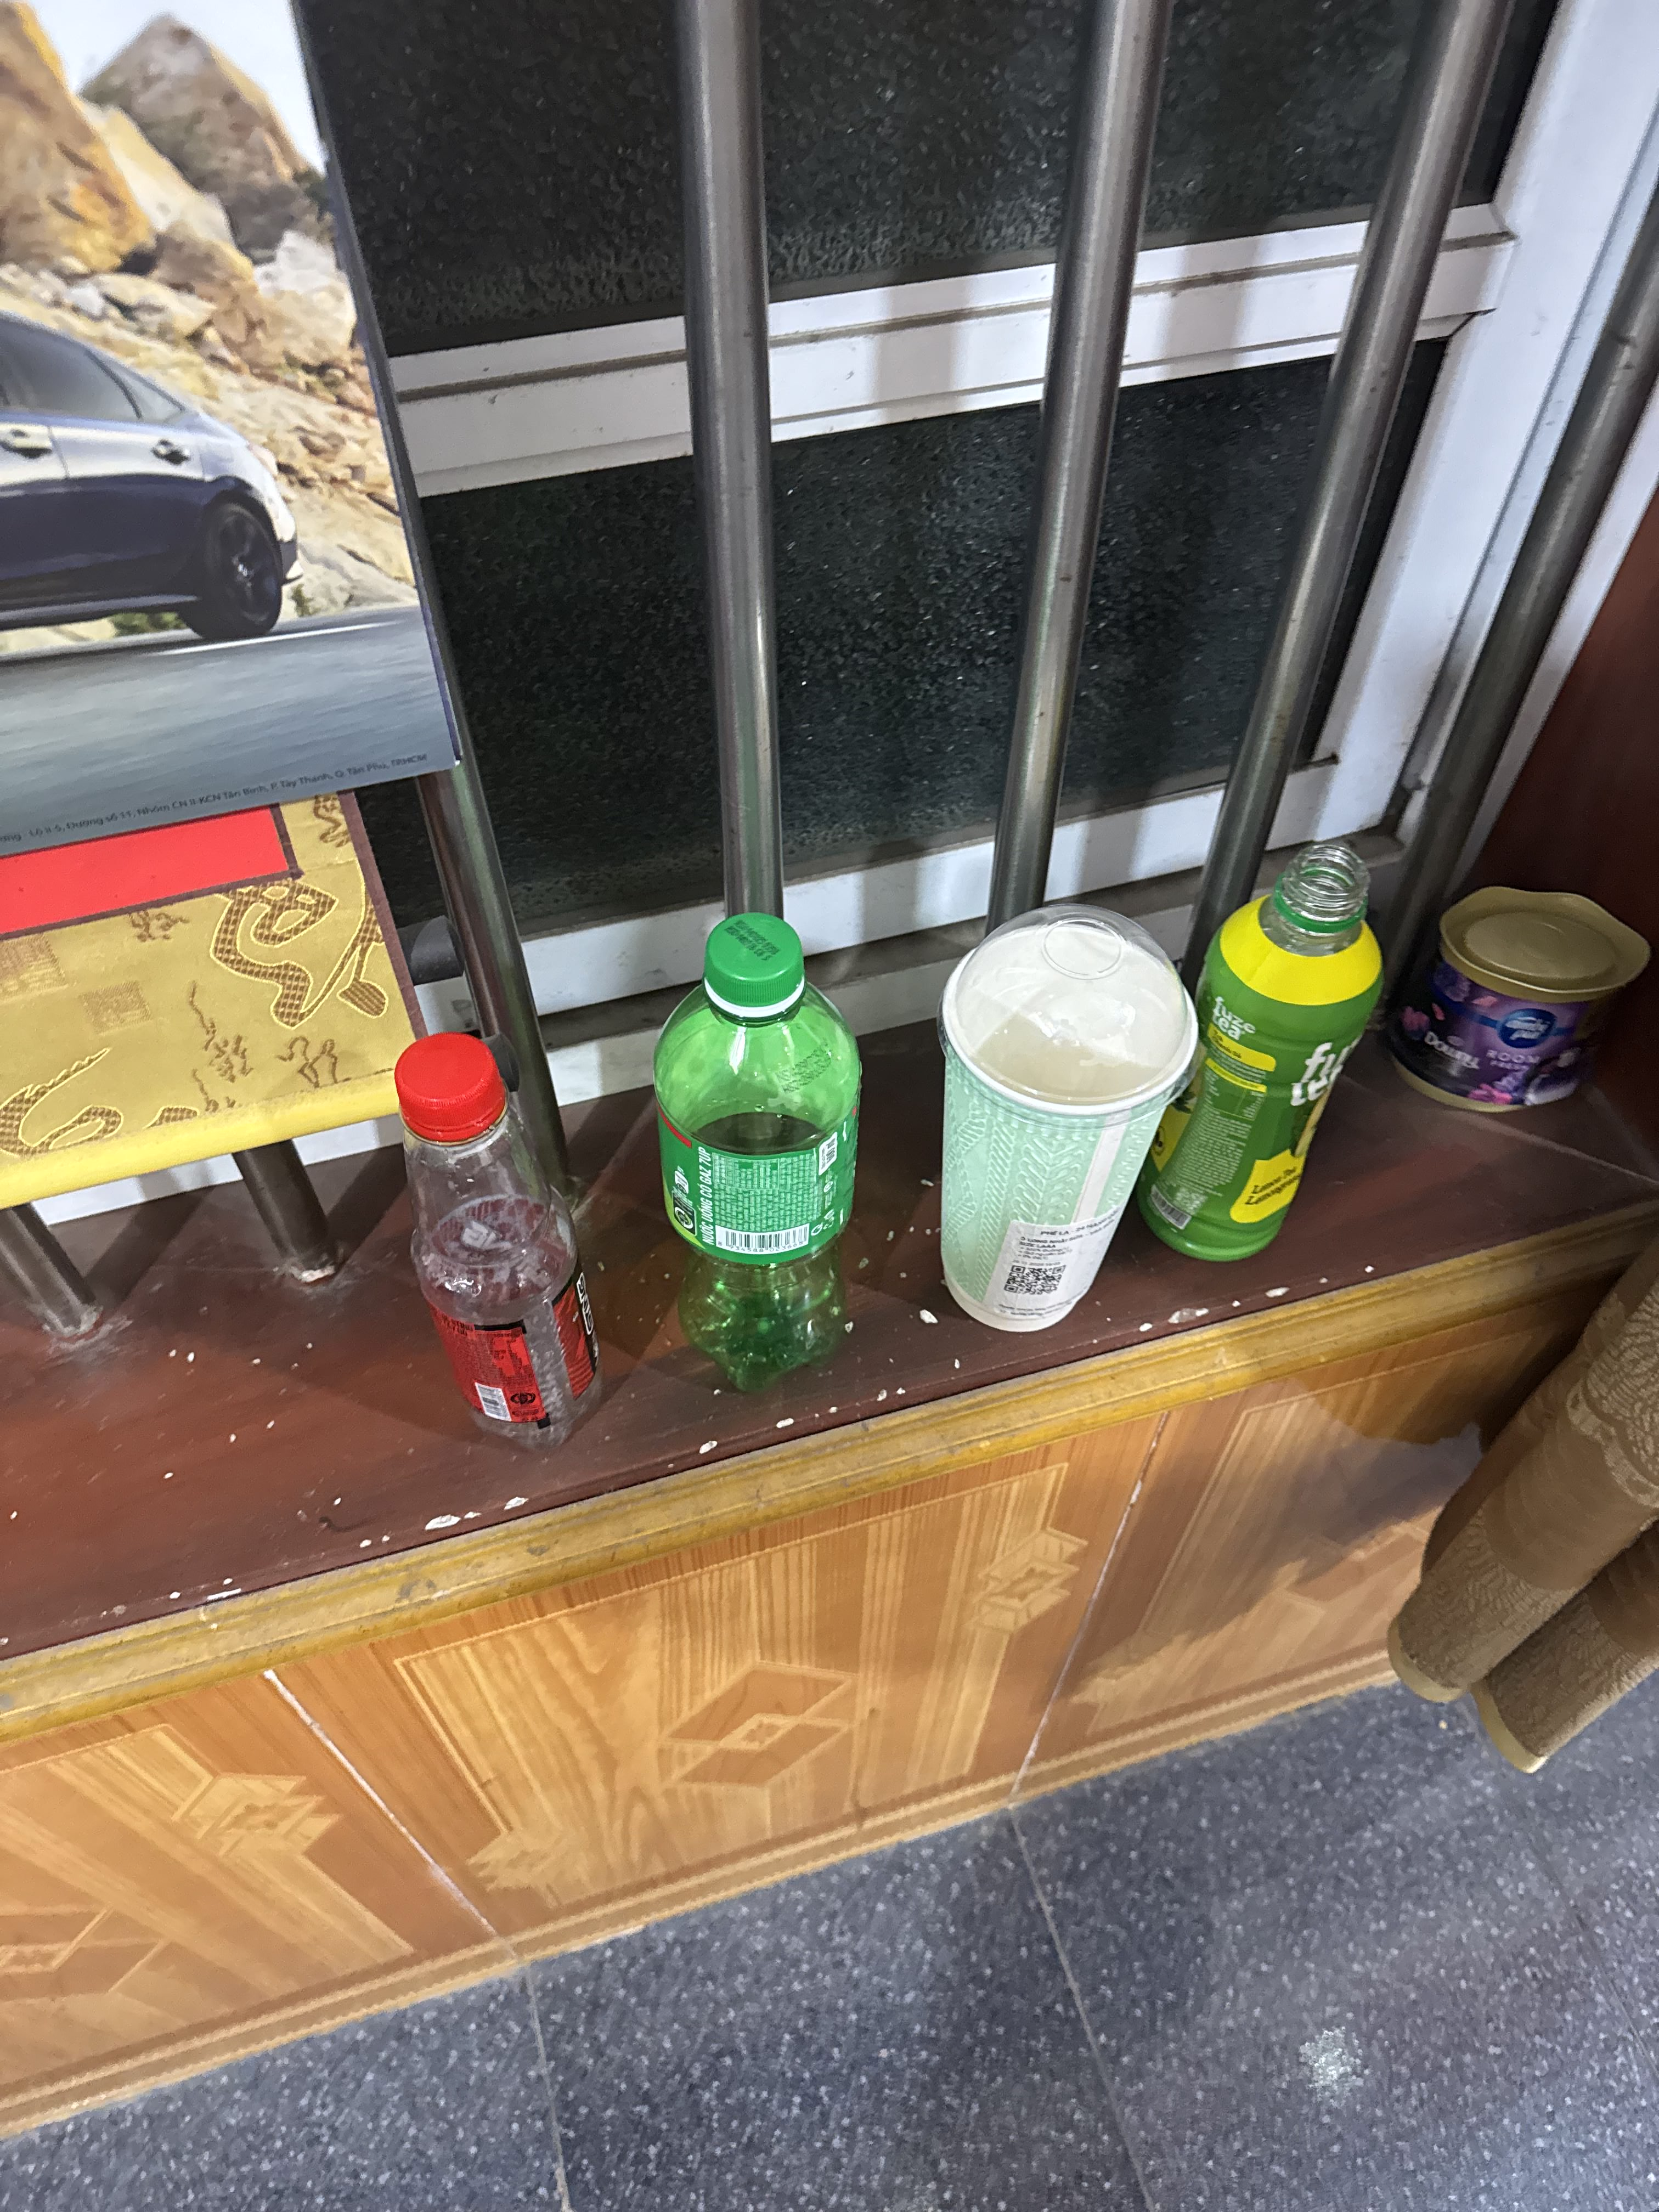2: (918, 874, 1206, 1425)
bottle: (1126, 813, 1427, 1273), (636, 894, 887, 1423), (378, 1019, 640, 1470)
